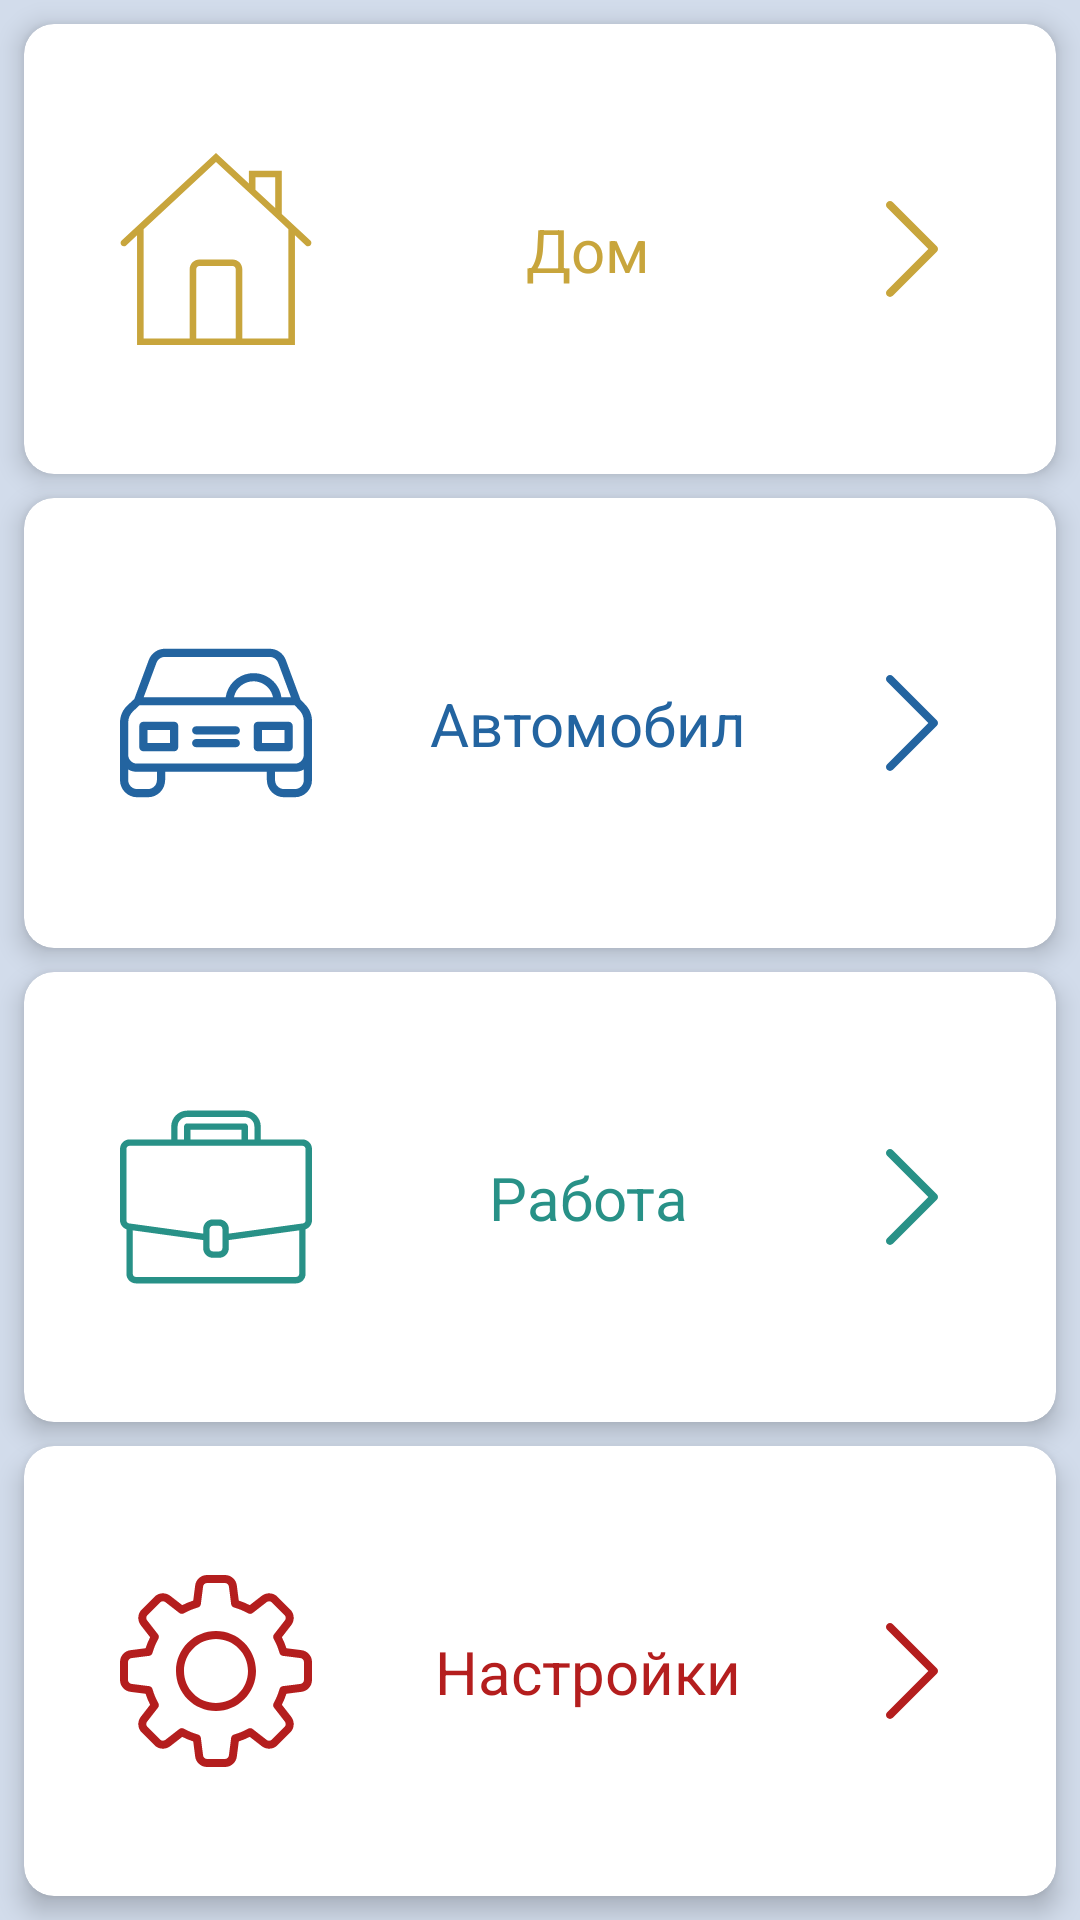

Named icons in this screenshot (1080px×1920px) and their centers, (x=x, y=y):
car: (x=216, y=723)
home: (x=216, y=249)
job: (x=216, y=1197)
right arrow: (x=912, y=249), (x=912, y=723), (x=912, y=1197), (x=912, y=1671)
settings: (x=216, y=1671)
